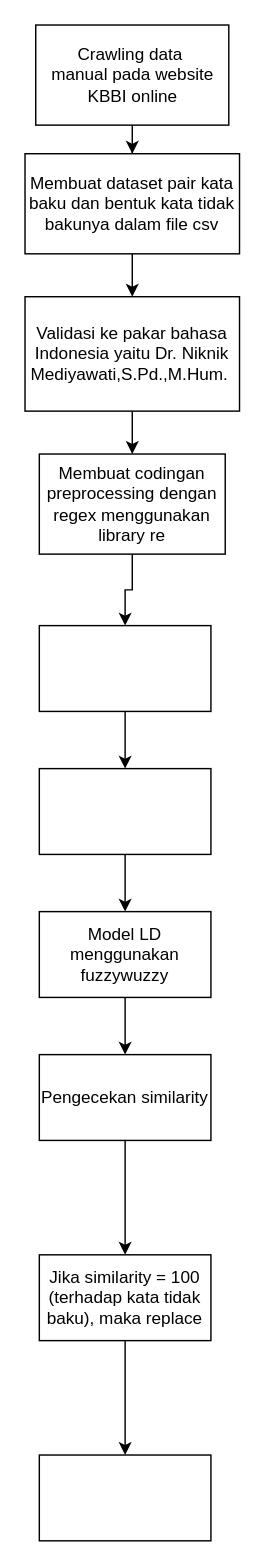
This 265x1566 diagram has some shape labels left out. Here are the shapes that lost their labels. From the top down, the centre of each, then its label:
At point (124, 667): "Regex memilah tanda spasi, tanda baca, untuk memisahkan kata".
At point (124, 810): "Membuatnya dalam bentuk array".
At point (124, 1497): "Gabungkan kembali semua kata, lalu print output".
